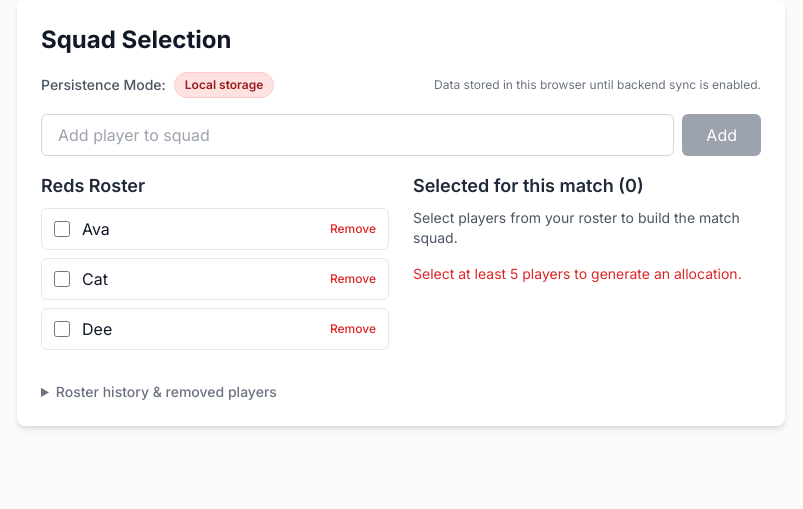
it: PlayerInput › squads › explains when a new name matches a player tagged for the other squad
Expected: the checkbox labelled "Ava" is shown, [54,221,70,237]
Type "bea" into the field with placeholder "Add player to squad" at (358, 135), box [41,114,674,156]
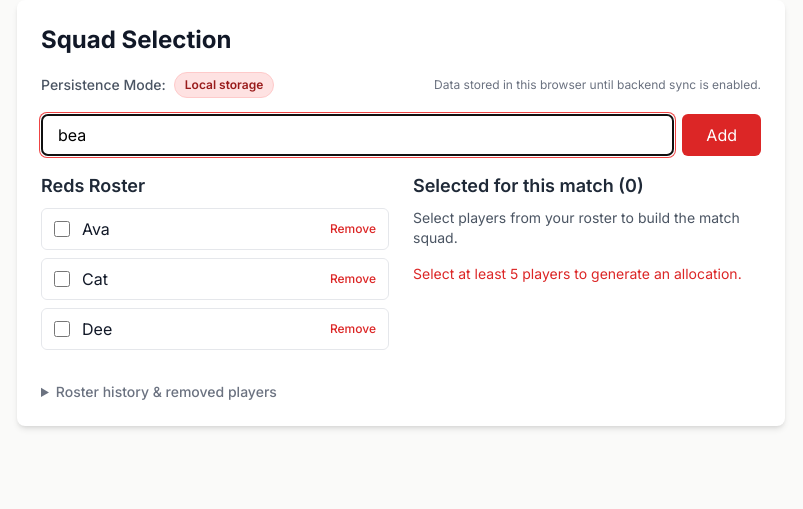
Click the button with aria-label "add player to squad" at (722, 135), box [682,114,761,156]
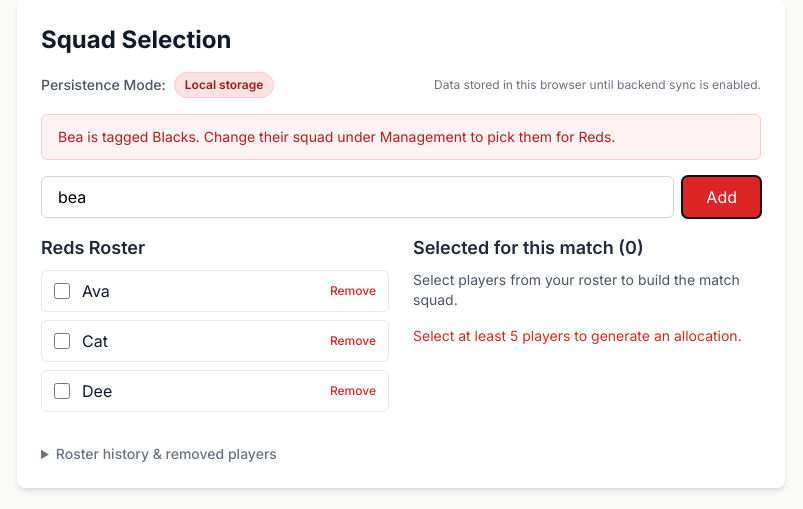
Expected: the text "Bea is tagged Blacks" is shown, [58,128,615,145]
